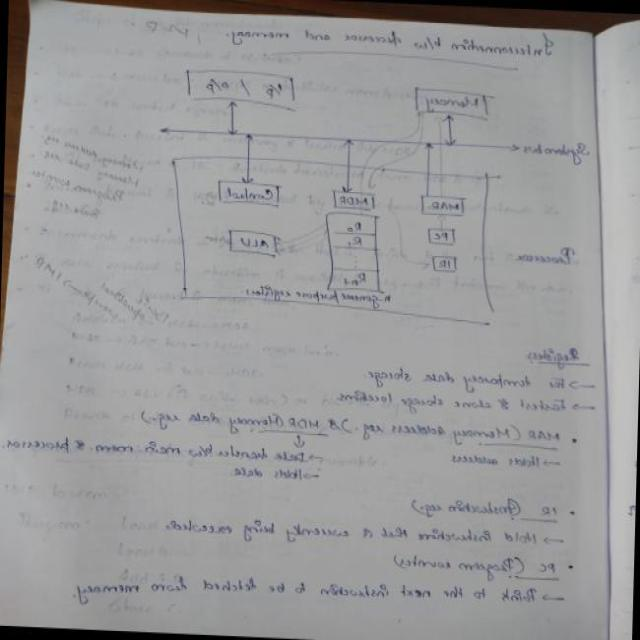Figure Detection - v3 Dataset Version2: (137, 60, 598, 330)
